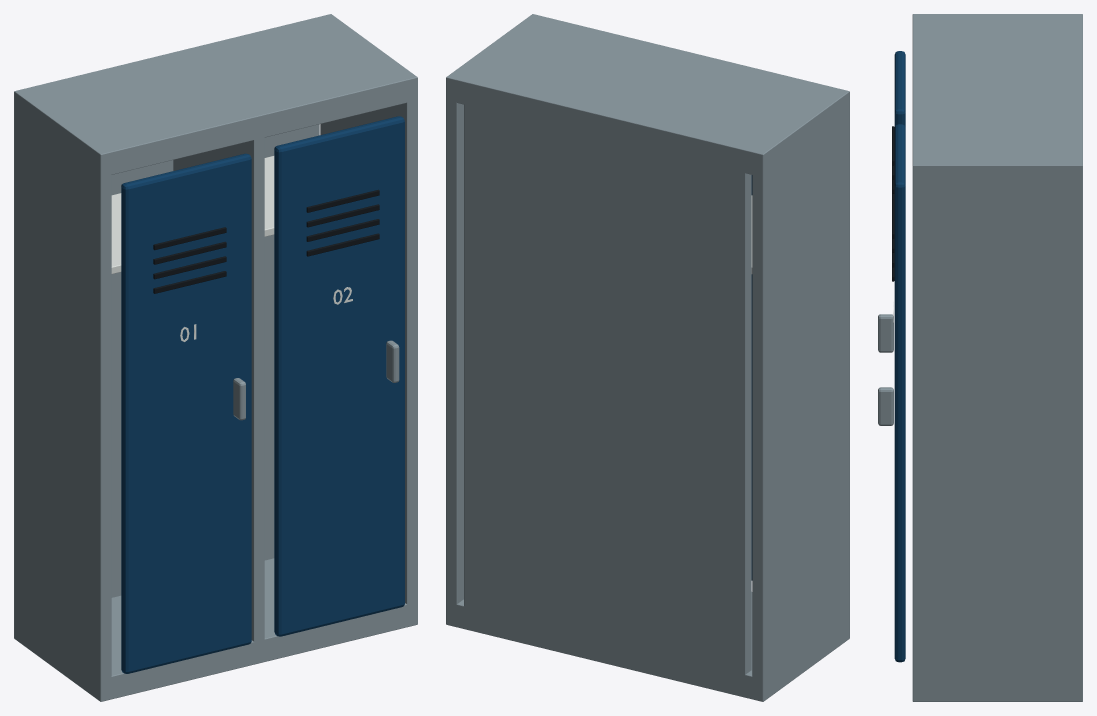
File: edited.glb
3 renders of one model, left to right at view 1: azimuth 30°, elevation 25°; view 2: azimuth 150°, elevation 25°; view 3: azimuth 270°, elevation 25°, orthographic. The views are drawn at different scales.
Parts seen in each view (by area): view 1: DOOR_Panel, DOOR_Panel.001, BODY_Divider.001, BODY_Plate, BODY_Back, BODY_Divider, BODY_Plate.001, BODY_Divider.002, SHELF, SHELF.001; view 2: BODY_Back, BODY_Divider.001, BODY_Plate, BODY_Divider, BODY_Plate.001, BODY_Divider.002, DOOR_Panel; view 3: BODY_Divider, BODY_Plate, DOOR_Panel.001, DOOR_Panel, HANDLE.001, HANDLE, BODY_Divider.001.
Part boxes in pixels (x1,y1,x2,y2): DOOR_Panel: (121,153,251,673); DOOR_Panel.001: (274,116,404,636); BODY_Divider.001: (14,90,111,701); BODY_Plate: (20,15,411,174); BODY_Back: (111,124,319,597); BODY_Divider: (320,14,417,627); BODY_Plate.001: (106,558,407,700); BODY_Divider.002: (173,93,264,664); SHELF: (111,193,121,273); SHELF.001: (264,156,274,236); BODY_Back: (464,77,751,686); BODY_Divider.001: (752,90,849,701); BODY_Plate: (452,15,843,175); BODY_Divider: (446,14,537,627); BODY_Plate.001: (456,592,757,700); BODY_Divider.002: (599,77,662,664); DOOR_Panel: (751,175,752,580); BODY_Divider: (912,160,1082,701); BODY_Plate: (912,16,1082,162); DOOR_Panel.001: (894,124,905,662); DOOR_Panel: (894,51,905,126); HANDLE.001: (878,387,893,425); HANDLE: (878,314,893,352); BODY_Divider.001: (912,14,1082,16).
Size of the model in its own units: 1.14 by 1.88 by 0.65.
